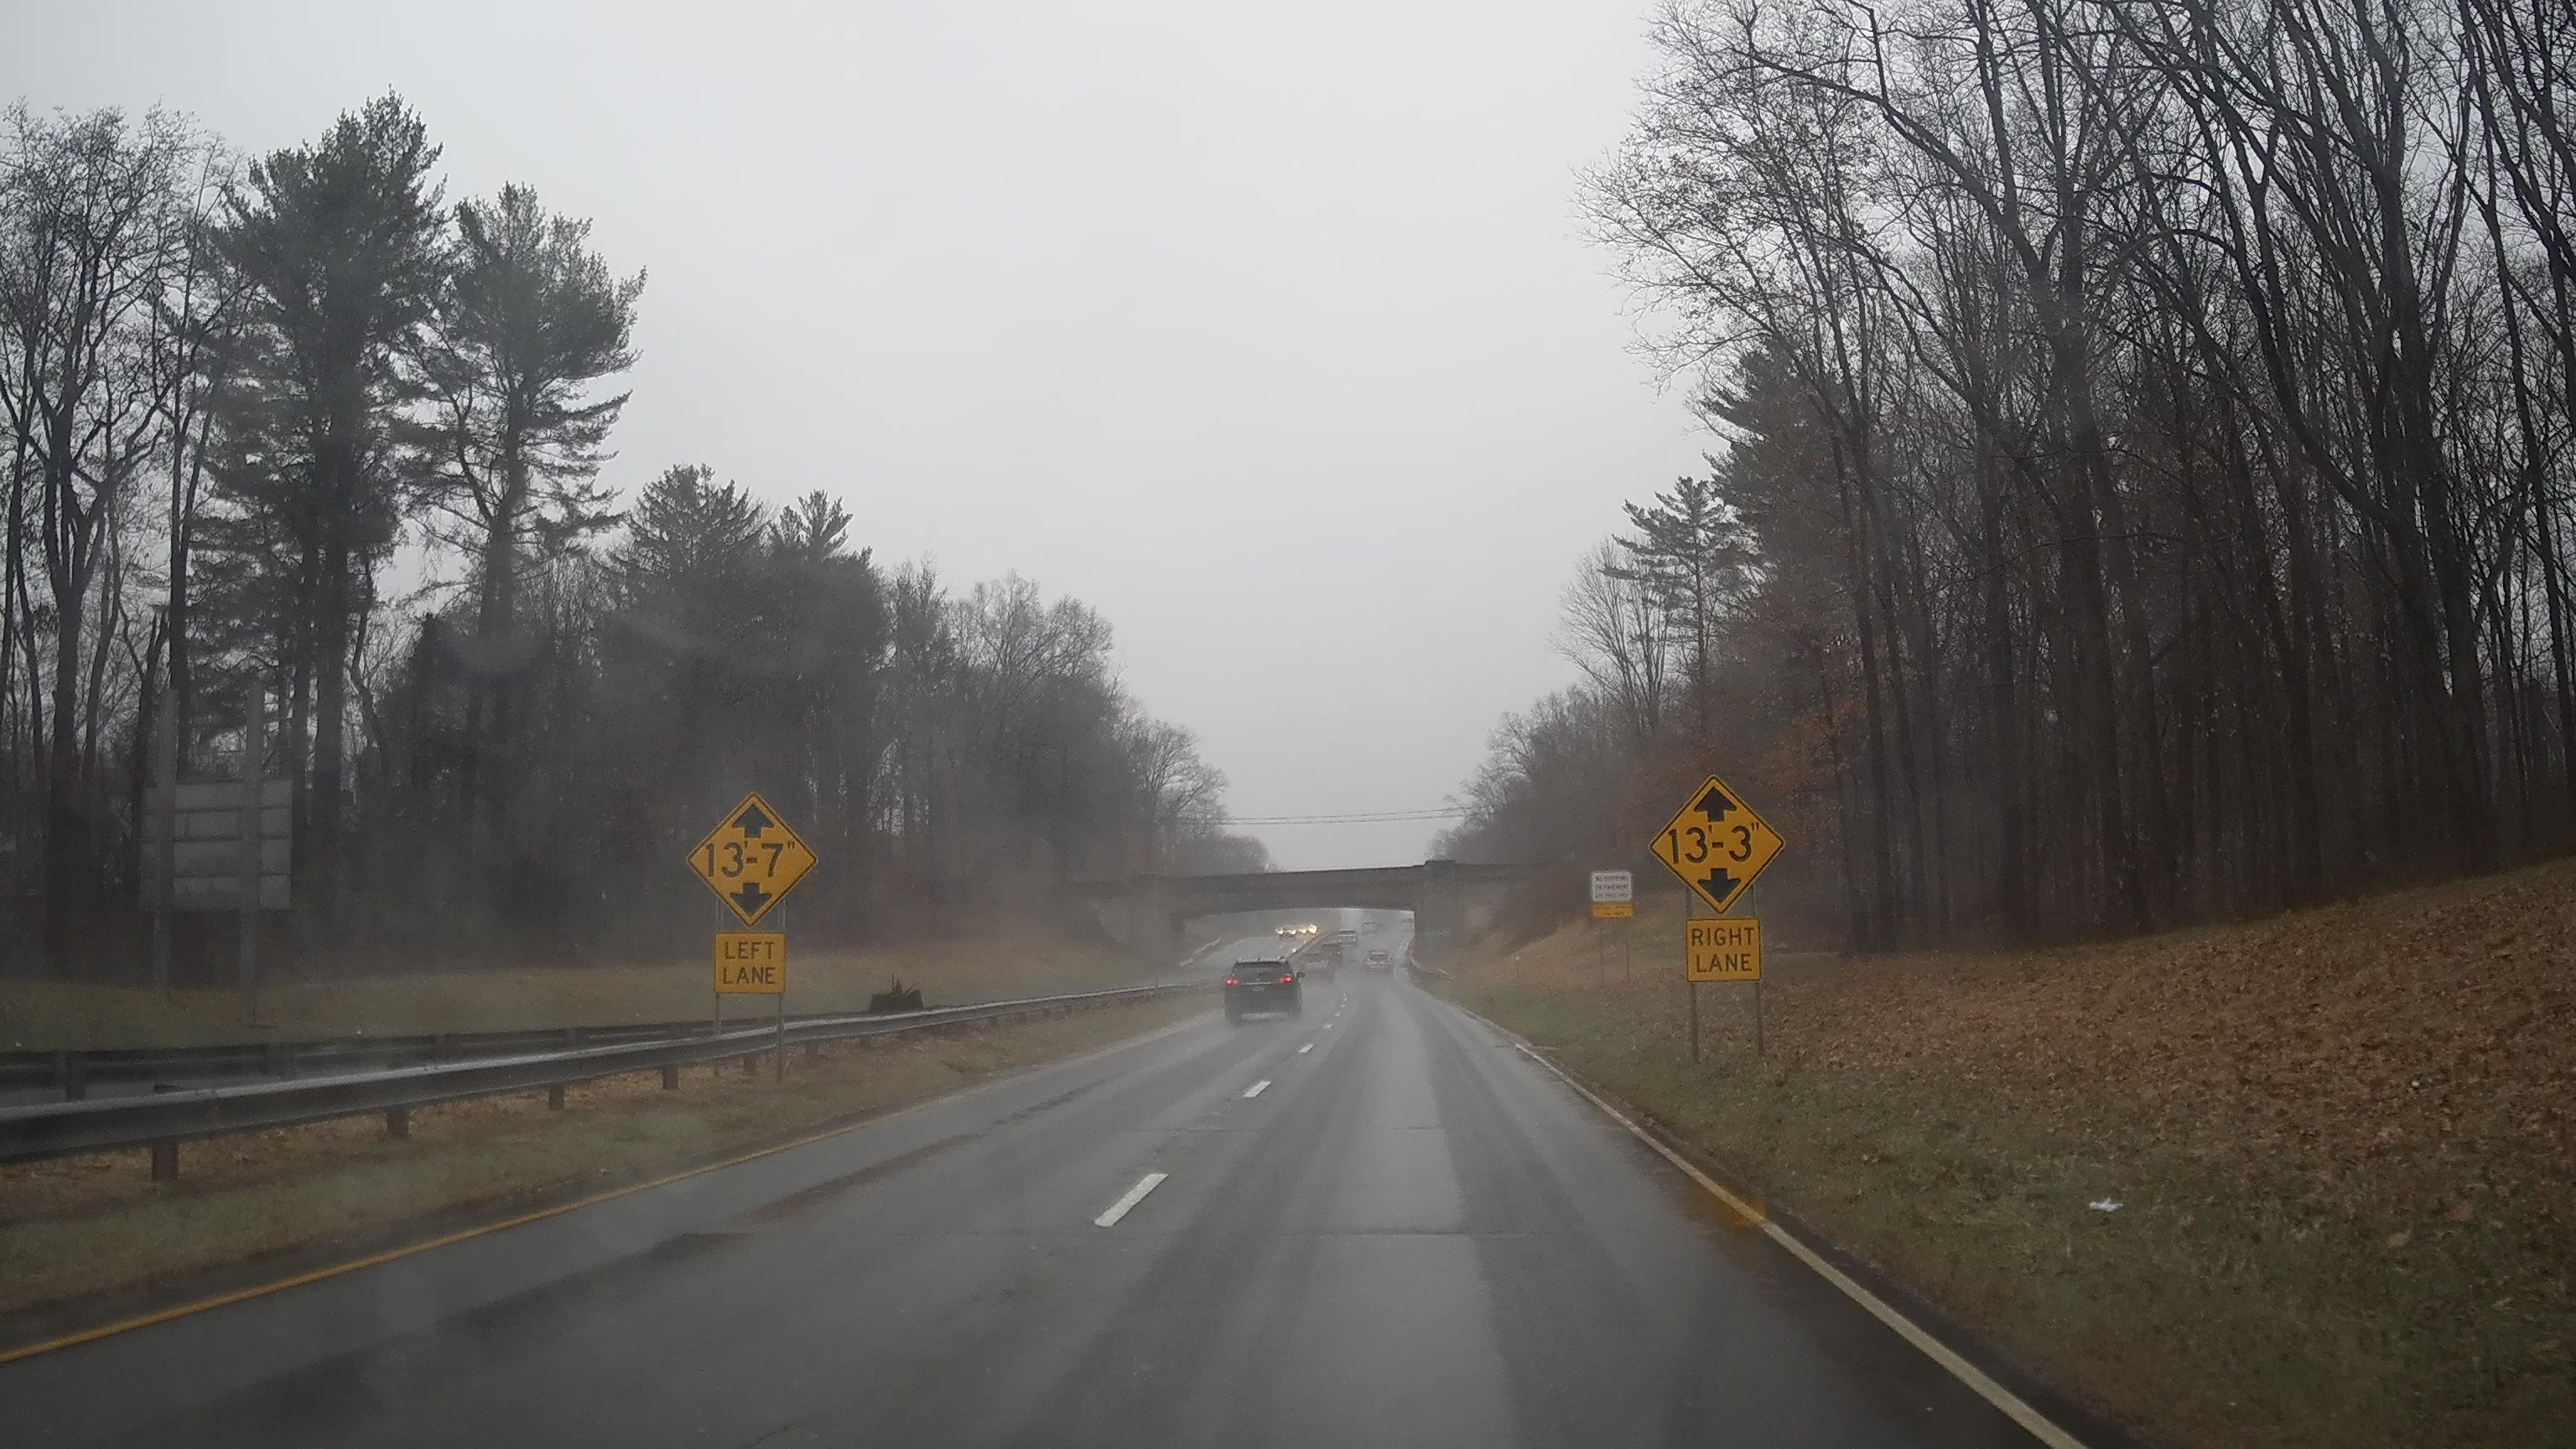low-clearance-sign: (1645, 773, 1787, 918), (685, 791, 821, 931)
